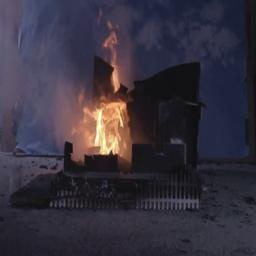fire: (74, 30, 133, 155)
